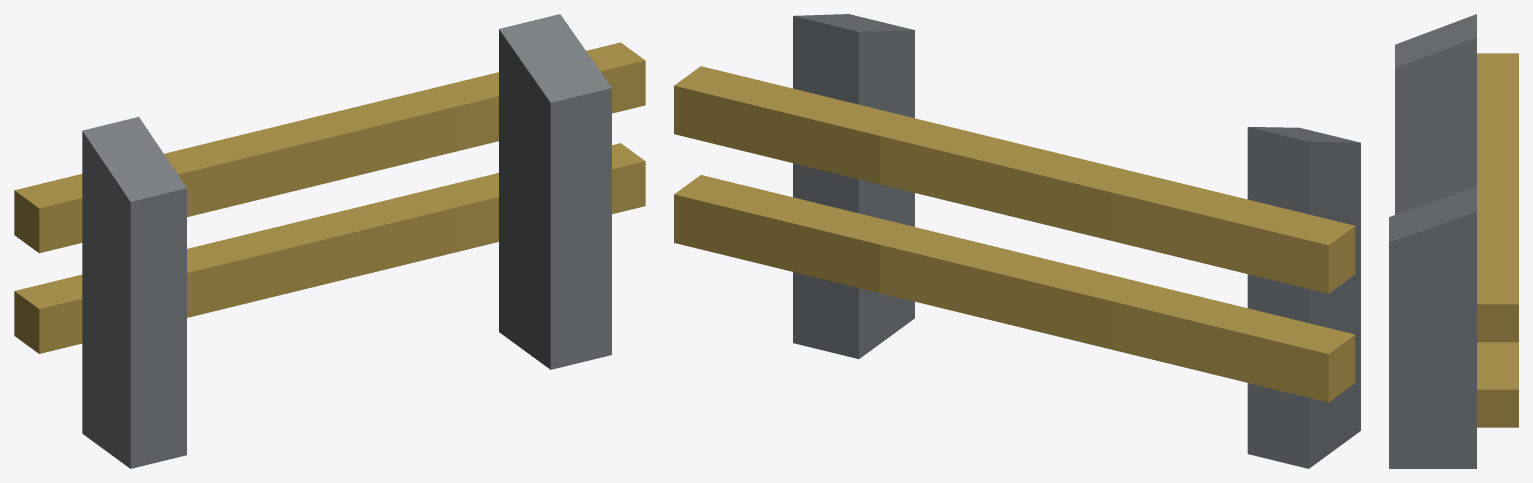
File: YellowMetalWallSmallBarrierMidSection1.fbx
The picture shows the model from 3 angles, left to right: view 1: azimuth 30°, elevation 25°; view 2: azimuth 150°, elevation 25°; view 3: azimuth 270°, elevation 25°; orthographic projection. The views are drawn at different scales.
Visible parts, largest first — view 1: YellowMetalWallSmallBarrierMidSection1; view 2: YellowMetalWallSmallBarrierMidSection1; view 3: YellowMetalWallSmallBarrierMidSection1.
Part boxes in pixels (left/top/right/bottom): YellowMetalWallSmallBarrierMidSection1: left=14, top=14, right=645, bottom=468; YellowMetalWallSmallBarrierMidSection1: left=674, top=14, right=1360, bottom=468; YellowMetalWallSmallBarrierMidSection1: left=1389, top=14, right=1518, bottom=468.
Bounding box in the file's own units: 283 × 135 × 61.83.
Materials: 2 (2 with a texture image).
